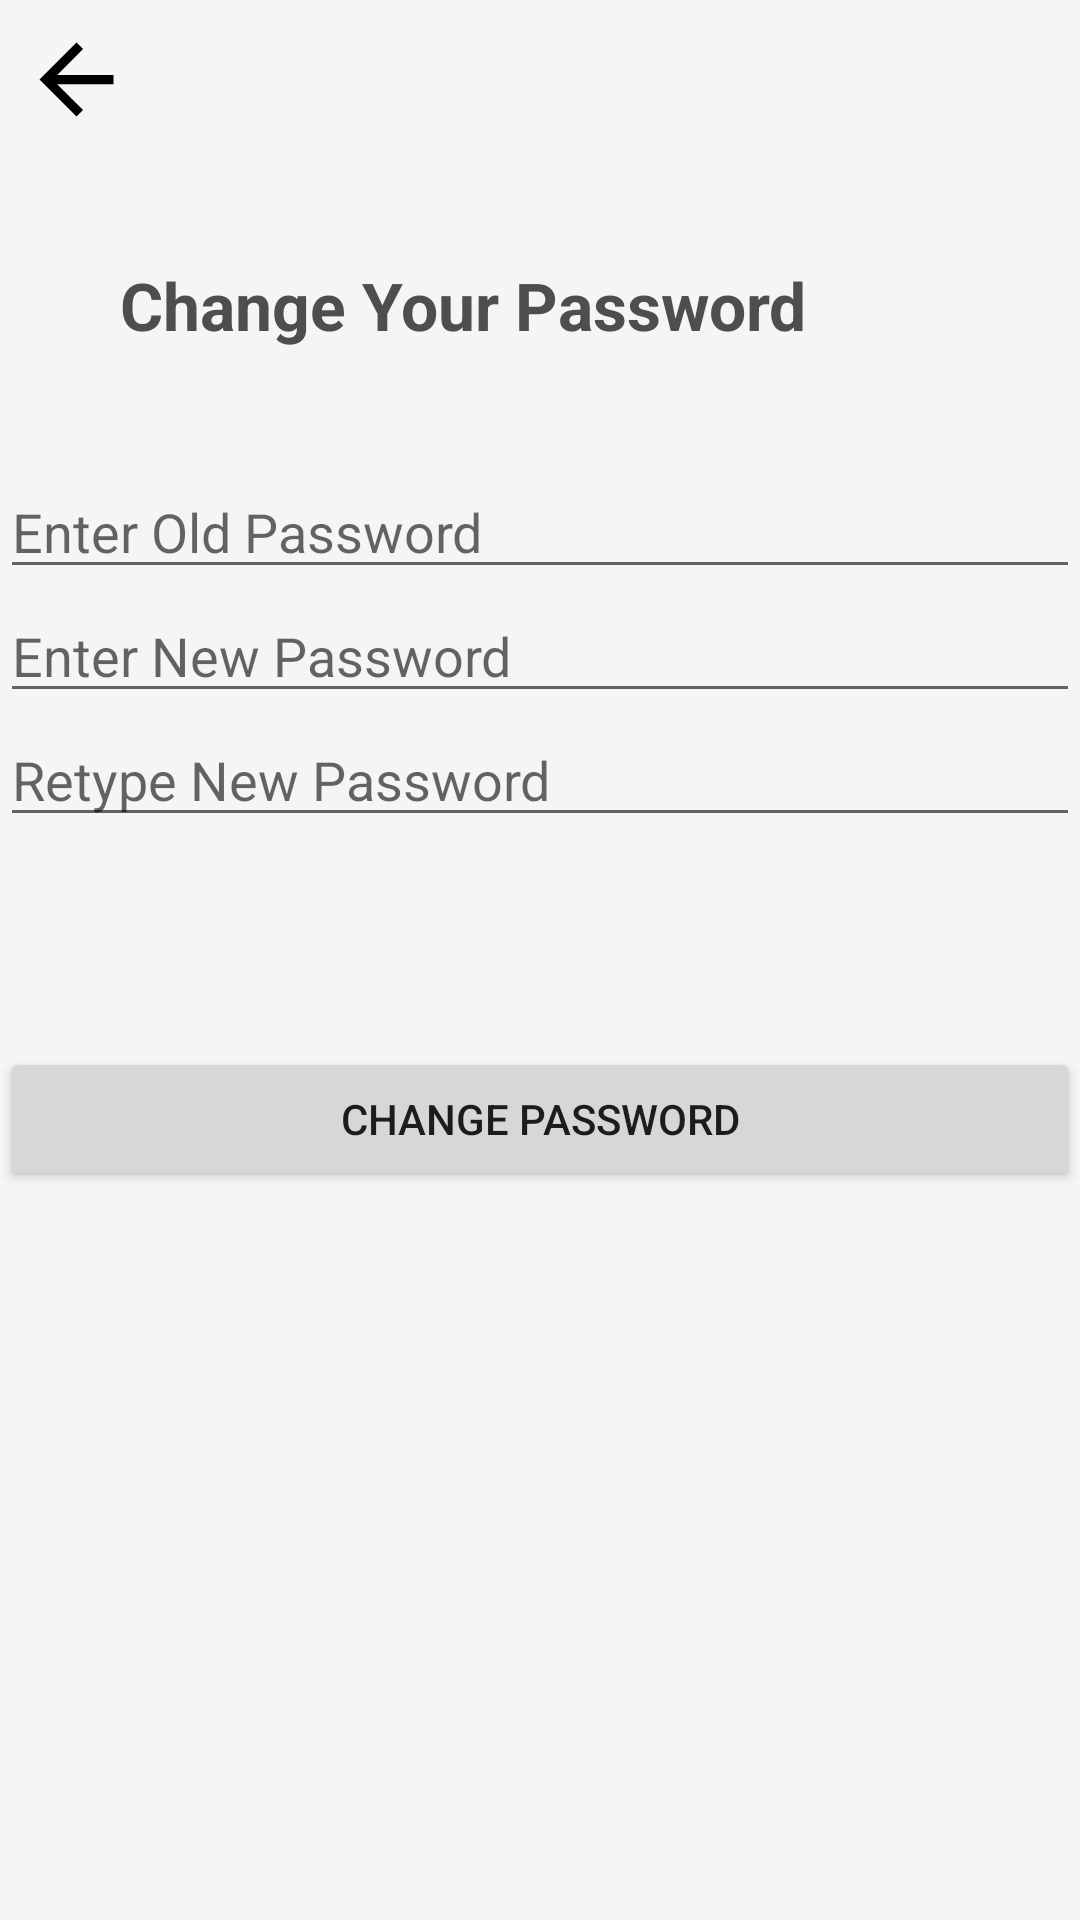

Named icons in this screenshot (1080*1920) and their bounding boxes, [x1, y1, x2, y2]:
arrow back: [39, 42, 114, 117]
